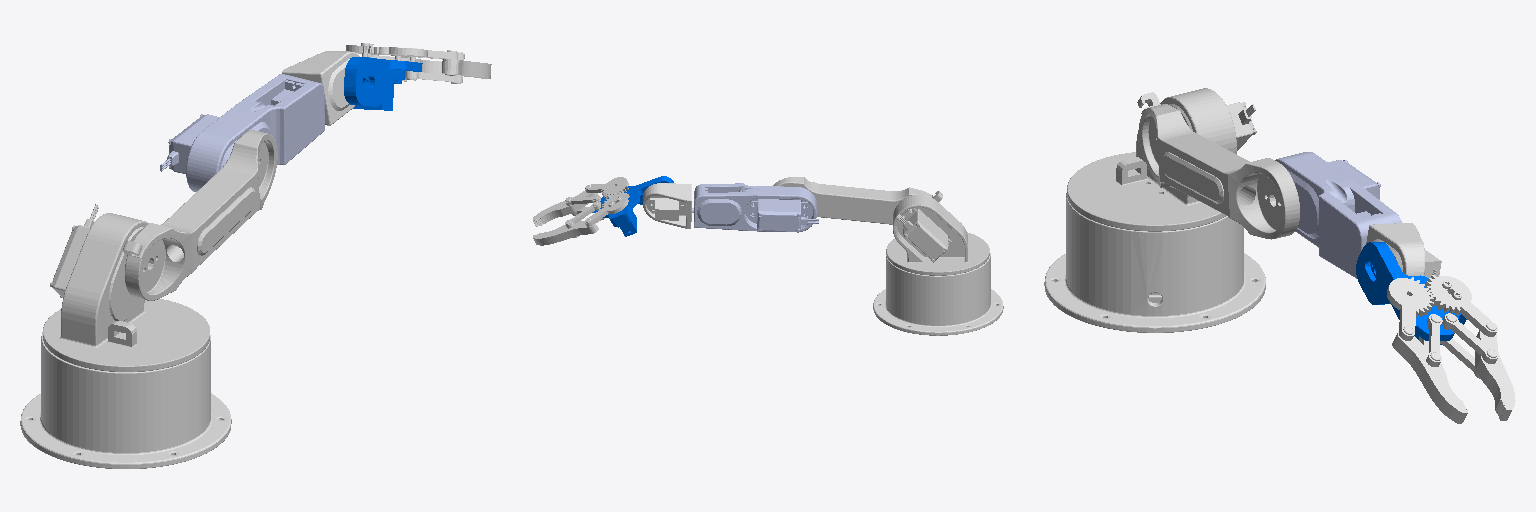
The robot description file, URDF, robot "ready":
<?xml version="1.0" encoding="utf-8"?>
<!-- This URDF was automatically created by SolidWorks to URDF Exporter! Originally created by [author] ([email redacted]) 
     Commit Version: 1.6.0-4-g7f85cfe  Build Version: 1.6.7995.38578
     For more information, please see http://wiki.ros.org/sw_urdf_exporter -->
<robot
  name="ready">
  <link
    name="base_link">
    <inertial>
      <origin
        xyz="-0.00241378906876298 -1.03638504873882E-05 0.0229786696320582"
        rpy="0 0 0" />
      <mass
        value="0.125687970903285" />
      <inertia
        ixx="0.000132597193794362"
        ixy="-5.54339769745936E-08"
        ixz="2.99154940931258E-06"
        iyy="0.000144967233123241"
        iyz="3.55407428089301E-08"
        izz="0.000213806267861964" />
    </inertial>
    <visual>
      <origin
        xyz="0 0 0"
        rpy="0 0 0" />
      <geometry>
        <mesh
          filename="package://ready/meshes/base_link.STL" />
      </geometry>
      <material
        name="">
        <color
          rgba="0.898039215686275 0.898039215686275 0.898039215686275 1" />
      </material>
    </visual>
    <collision>
      <origin
        xyz="0 0 0"
        rpy="0 0 0" />
      <geometry>
        <mesh
          filename="package://ready/meshes/base_link.STL" />
      </geometry>
    </collision>
  </link>
  <link
    name="base">
    <inertial>
      <origin
        xyz="-0.000728011580296187 0.014444743033441 0.022316547689835"
        rpy="0 0 0" />
      <mass
        value="0.100547648959308" />
      <inertia
        ixx="5.76361982973773E-05"
        ixy="-6.27373521044162E-06"
        ixz="-5.35179501574201E-06"
        iyy="6.01392147321194E-05"
        iyz="-9.84295480645579E-06"
        izz="6.17332943076656E-05" />
    </inertial>
    <visual>
      <origin
        xyz="0 0 0"
        rpy="0 0 0" />
      <geometry>
        <mesh
          filename="package://ready/meshes/base.STL" />
      </geometry>
      <material
        name="">
        <color
          rgba="0.850980392156863 0.850980392156863 0.850980392156863 1" />
      </material>
    </visual>
    <collision>
      <origin
        xyz="0 0 0"
        rpy="0 0 0" />
      <geometry>
        <mesh
          filename="package://ready/meshes/base.STL" />
      </geometry>
    </collision>
  </link>
  <joint
    name="base"
    type="continuous">
    <origin
      xyz="0.0003 -0.0001 0.056"
      rpy="0 0 0" />
    <parent
      link="base_link" />
    <child
      link="base" />
    <axis
      xyz="0 0 -1" />
  </joint>
  <link
    name="axis1">
    <inertial>
      <origin
        xyz="0.0555926124738068 0.022024653557034 0.00676376593117495"
        rpy="0 0 0" />
      <mass
        value="0.0615776170036193" />
      <inertia
        ixx="3.52355637996202E-05"
        ixy="-4.39132037716234E-05"
        ixz="-9.06469857703949E-06"
        iyy="8.59638225049525E-05"
        iyz="-5.26786116286118E-06"
        izz="0.000106948379167663" />
    </inertial>
    <visual>
      <origin
        xyz="0 0 0"
        rpy="0 0 0" />
      <geometry>
        <mesh
          filename="package://ready/meshes/axis1.STL" />
      </geometry>
      <material
        name="">
        <color
          rgba="0.850980392156863 0.850980392156863 0.850980392156863 1" />
      </material>
    </visual>
    <collision>
      <origin
        xyz="0 0 0"
        rpy="0 0 0" />
      <geometry>
        <mesh
          filename="package://ready/meshes/axis1.STL" />
      </geometry>
    </collision>
  </link>
  <joint
    name="axis1"
    type="continuous">
    <origin
      xyz="0.016158 0.010059 0.040145"
      rpy="0 0 0" />
    <parent
      link="base" />
    <child
      link="axis1" />
    <axis
      xyz="-0.50104 0.86542 0" />
  </joint>
  <link
    name="axis2">
    <inertial>
      <origin
        xyz="0.0165429667265043 0.0358835906287259 0.000651811689503706"
        rpy="0 0 0" />
      <mass
        value="0.0932777746480594" />
      <inertia
        ixx="3.05690785189914E-05"
        ixy="-2.4502063411223E-05"
        ixz="-9.78467559261523E-07"
        iyy="5.65173673784098E-05"
        iyz="-5.93684396785708E-07"
        izz="7.01340472553555E-05" />
    </inertial>
    <visual>
      <origin
        xyz="0 0 0"
        rpy="0 0 0" />
      <geometry>
        <mesh
          filename="package://ready/meshes/axis2.STL" />
      </geometry>
      <material
        name="">
        <color
          rgba="0.792156862745098 0.819607843137255 0.933333333333333 1" />
      </material>
    </visual>
    <collision>
      <origin
        xyz="0 0 0"
        rpy="0 0 0" />
      <geometry>
        <mesh
          filename="package://ready/meshes/axis2.STL" />
      </geometry>
    </collision>
  </link>
  <joint
    name="axis2"
    type="continuous">
    <origin
      xyz="0.10611 0.05473 0.013401"
      rpy="0 0 0" />
    <parent
      link="axis1" />
    <child
      link="axis2" />
    <axis
      xyz="-0.50104 0.86542 0" />
  </joint>
  <link
    name="rotation">
    <inertial>
      <origin
        xyz="0.0181371461477757 0.00771055705457602 0.00604126543439856"
        rpy="0 0 0" />
      <mass
        value="0.0248973937377238" />
      <inertia
        ixx="3.34498891903212E-06"
        ixy="-7.07499024123718E-07"
        ixz="-5.47452313753728E-08"
        iyy="5.59203158873394E-06"
        iyz="-1.88602775885656E-07"
        izz="4.8803281643042E-06" />
    </inertial>
    <visual>
      <origin
        xyz="0 0 0"
        rpy="0 0 0" />
      <geometry>
        <mesh
          filename="package://ready/meshes/rotation.STL" />
      </geometry>
      <material
        name="">
        <color
          rgba="0.898039215686275 0.898039215686275 0.898039215686275 1" />
      </material>
    </visual>
    <collision>
      <origin
        xyz="0 0 0"
        rpy="0 0 0" />
      <geometry>
        <mesh
          filename="package://ready/meshes/rotation.STL" />
      </geometry>
    </collision>
  </link>
  <joint
    name="rotation"
    type="continuous">
    <origin
      xyz="0.071166 0.061585 -0.0028695"
      rpy="0 0 0" />
    <parent
      link="axis2" />
    <child
      link="rotation" />
    <axis
      xyz="-0.86517 -0.5009 -0.024084" />
  </joint>
  <link
    name="up_down">
    <inertial>
      <origin
        xyz="0.0214586839771995 0.0169085886023392 -0.00962254056702813"
        rpy="0 0 0" />
      <mass
        value="0.0230600607790296" />
      <inertia
        ixx="5.46605669847698E-06"
        ixy="-2.63081713910363E-06"
        ixz="9.80599951880868E-07"
        iyy="5.63522109420185E-06"
        iyz="1.04672169444031E-06"
        izz="8.61751116394786E-06" />
    </inertial>
    <visual>
      <origin
        xyz="0 0 0"
        rpy="0 0 0" />
      <geometry>
        <mesh
          filename="package://ready/meshes/up_down.STL" />
      </geometry>
      <material
        name="">
        <color
          rgba="0 0.501960784313725 1 1" />
      </material>
    </visual>
    <collision>
      <origin
        xyz="0 0 0"
        rpy="0 0 0" />
      <geometry>
        <mesh
          filename="package://ready/meshes/up_down.STL" />
      </geometry>
    </collision>
  </link>
  <joint
    name="up_down"
    type="continuous">
    <origin
      xyz="0.032807 -0.00078818 0.0089613"
      rpy="0 0 0" />
    <parent
      link="rotation" />
    <child
      link="up_down" />
    <axis
      xyz="-0.4887 0.85292 -0.18357" />
  </joint>
  <link
    name="gripper">
    <inertial>
      <origin
        xyz="0.0360899471870412 0.00140467113581788 -0.0147334022764676"
        rpy="0 0 0" />
      <mass
        value="0.0202381201179546" />
      <inertia
        ixx="1.78087102339838E-06"
        ixy="-1.04679966469341E-06"
        ixz="1.29575502499914E-06"
        iyy="3.71572602966896E-06"
        iyz="6.75272233643624E-07"
        izz="3.92128177038014E-06" />
    </inertial>
    <visual>
      <origin
        xyz="0 0 0"
        rpy="0 0 0" />
      <geometry>
        <mesh
          filename="package://ready/meshes/gripper.STL" />
      </geometry>
      <material
        name="">
        <color
          rgba="0.898039215686275 0.898039215686275 0.898039215686275 1" />
      </material>
    </visual>
    <collision>
      <origin
        xyz="0 0 0"
        rpy="0 0 0" />
      <geometry>
        <mesh
          filename="package://ready/meshes/gripper.STL" />
      </geometry>
    </collision>
  </link>
  <joint
    name="gripper"
    type="continuous">
    <origin
      xyz="0.027457 0.036232 -0.0033203"
      rpy="0 0 0" />
    <parent
      link="up_down" />
    <child
      link="gripper" />
    <axis
      xyz="-0.28003 -0.35262 -0.89289" />
  </joint>
</robot>

--- Render facts (derived) ---
3 views of the same robot in one strip: view 1: azimuth 30°, elevation 25°; view 2: azimuth 150°, elevation 25°; view 3: azimuth 270°, elevation 25° (orthographic).
Model ready with 7 links and 6 joints (6 continuous), rooted at base_link, posed every joint at zero.
Visible links, largest first — view 1: base_link, base, axis1, axis2, up_down, gripper, rotation; view 2: base_link, base, axis2, axis1, gripper, rotation, up_down; view 3: base_link, axis1, base, gripper, axis2, up_down, rotation.
Link boxes in pixels (x1,y1,x2,y2): base_link: (20, 332, 231, 468); base: (43, 204, 209, 371); axis1: (123, 130, 277, 300); axis2: (160, 74, 324, 191); up_down: (344, 57, 422, 110); gripper: (346, 43, 491, 83); rotation: (282, 51, 359, 125); base_link: (873, 253, 1003, 335); base: (886, 195, 989, 275); axis2: (692, 183, 818, 232); axis1: (773, 177, 942, 224); gripper: (533, 177, 629, 245); rotation: (643, 183, 691, 228); up_down: (594, 176, 673, 236); base_link: (1044, 193, 1265, 332); axis1: (1137, 92, 1299, 239); base: (1067, 88, 1256, 231); gripper: (1387, 275, 1515, 423); axis2: (1275, 152, 1401, 278); up_down: (1356, 242, 1466, 344); rotation: (1366, 223, 1441, 277).
Bounding box of the posed robot: 0.4017 × 0.2594 × 0.1321 m (x, y, z).
7 mesh visuals loaded from 7 distinct referenced files (7 binary STL).